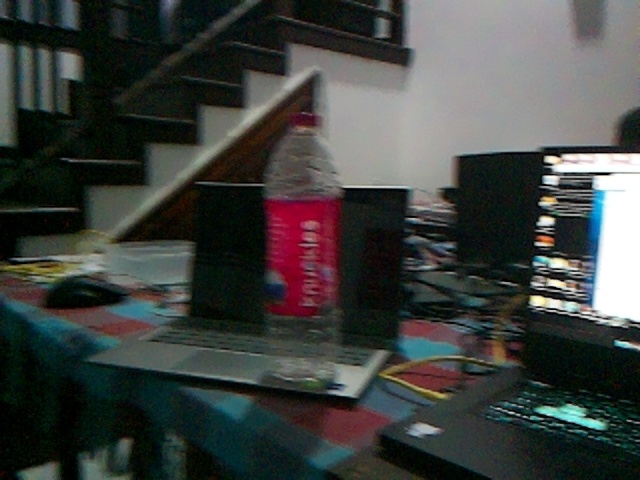bottle: (259, 110, 344, 384)
